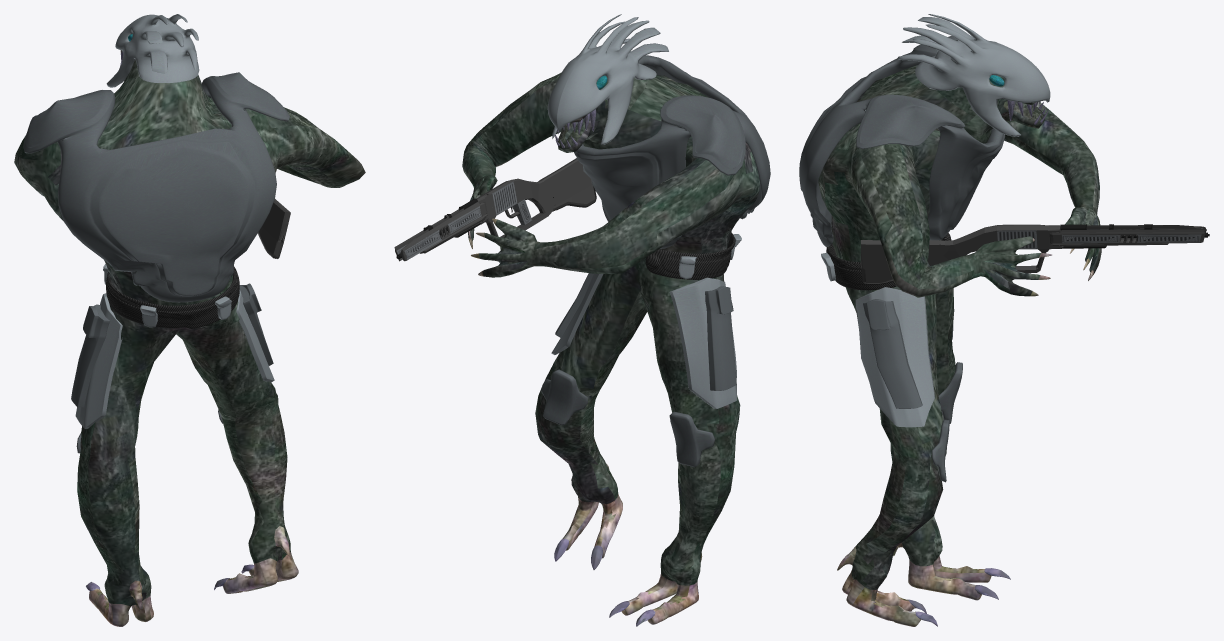
File: AndarEscopeta.0022.obj
3 renders of one model, left to right at view 1: azimuth 30°, elevation 25°; view 2: azimuth 150°, elevation 25°; view 3: azimuth 270°, elevation 25°, orthographic. The views are drawn at different scales.
Visible parts, largest first — view 1: polySurface234, escopeta:Cylinder001 polySurface234; view 2: polySurface234, escopeta:Cylinder001 polySurface234; view 3: polySurface234, escopeta:Cylinder001 polySurface234.
Boxes of the visible parts, x1=… form: polySurface234: x1=14, y1=14, x2=365, y2=626; escopeta:Cylinder001 polySurface234: x1=257, y1=199, x2=290, y2=258; polySurface234: x1=462, y1=14, x2=770, y2=626; escopeta:Cylinder001 polySurface234: x1=394, y1=158, x2=596, y2=261; polySurface234: x1=799, y1=14, x2=1101, y2=626; escopeta:Cylinder001 polySurface234: x1=861, y1=224, x2=1209, y2=283.
Bounding box in the file's own units: 1.38 × 2.54 × 1.6.
Materials: 10 (8 with a texture image).
